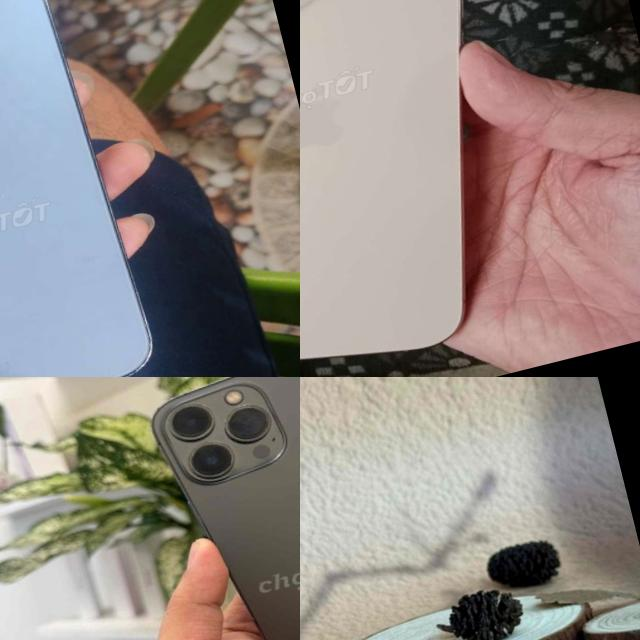gen_12_13: (0, 0, 167, 377), (134, 377, 300, 640)
gen_15: (300, 571, 634, 640)
gen_16: (300, 0, 463, 359)
